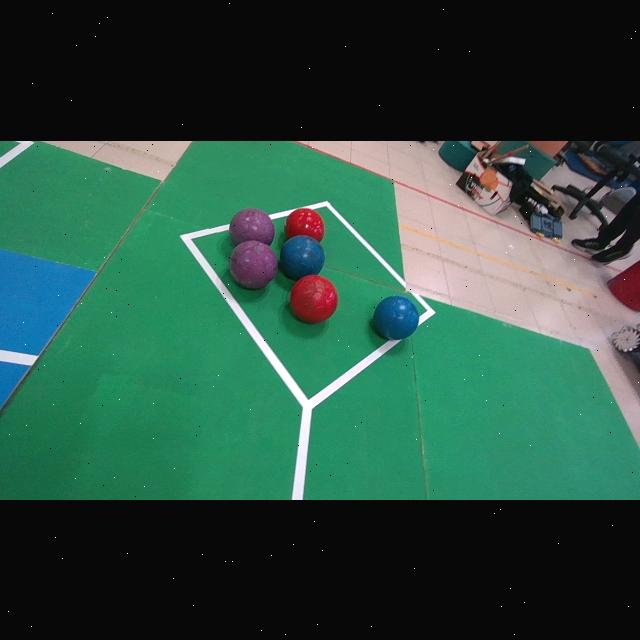B: (280, 234, 324, 279), (373, 297, 419, 339)
P: (228, 239, 277, 288), (228, 208, 274, 244)
R: (290, 273, 339, 323), (285, 208, 324, 241)
